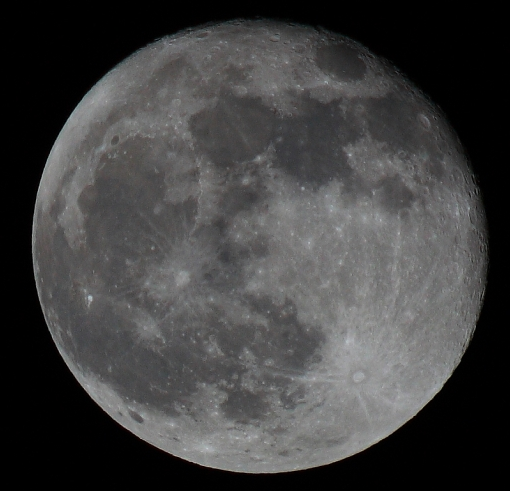crater: (323, 314, 404, 415), (120, 226, 208, 312), (397, 106, 433, 150), (125, 313, 158, 342), (123, 400, 155, 426), (78, 283, 101, 317), (279, 37, 311, 58), (241, 259, 272, 280), (102, 128, 131, 148), (188, 29, 221, 46), (329, 250, 348, 271)
